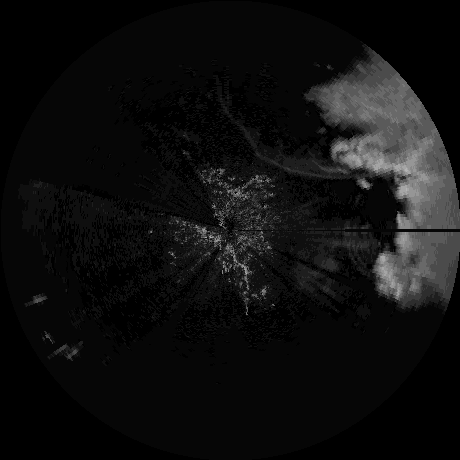frontgust: (242, 121, 369, 178)
